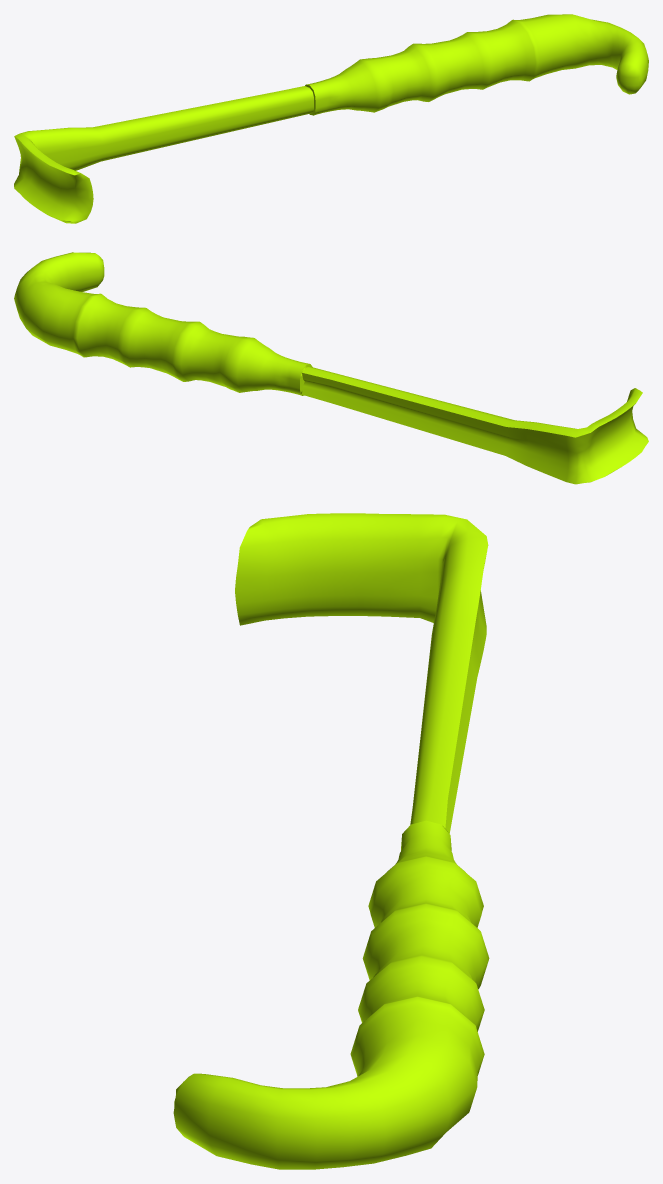
The model's file is richardson retractor.FBX.
3 renders of one model, top to bottom at view 1: azimuth 30°, elevation 25°; view 2: azimuth 150°, elevation 25°; view 3: azimuth 270°, elevation 25°, orthographic. The views are drawn at different scales.
Visible parts, largest first — view 1: Richardson Retractor; view 2: Richardson Retractor; view 3: Richardson Retractor.
Part boxes in pixels (x1=…): Richardson Retractor: x1=14, y1=14, x2=648, y2=223; Richardson Retractor: x1=14, y1=252, x2=648, y2=484; Richardson Retractor: x1=173, y1=513, x2=489, y2=1169.
Bounding box in the file's own units: 8.4 × 0.7798 × 1.93.
